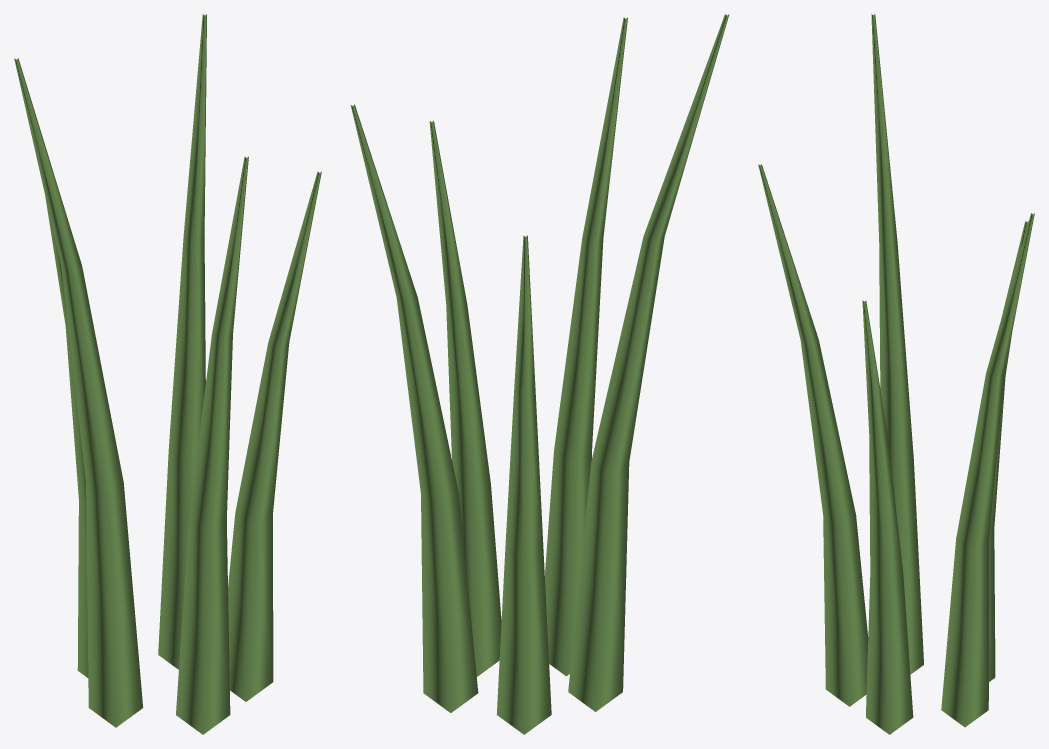
Rendered from grass.glb.
The picture shows the model from 3 angles, left to right: view 1: azimuth 30°, elevation 25°; view 2: azimuth 150°, elevation 25°; view 3: azimuth 270°, elevation 25°; orthographic projection. The views are drawn at different scales.
Parts seen in each view (by area): view 1: grass; view 2: grass; view 3: grass.
Boxes of the visible parts, <box> form: grass: <box>14,14,321,734</box>; grass: <box>350,14,729,734</box>; grass: <box>758,14,1034,734</box>.
Bounding box in the file's own units: 0.2768 × 0.61 × 0.2521.
